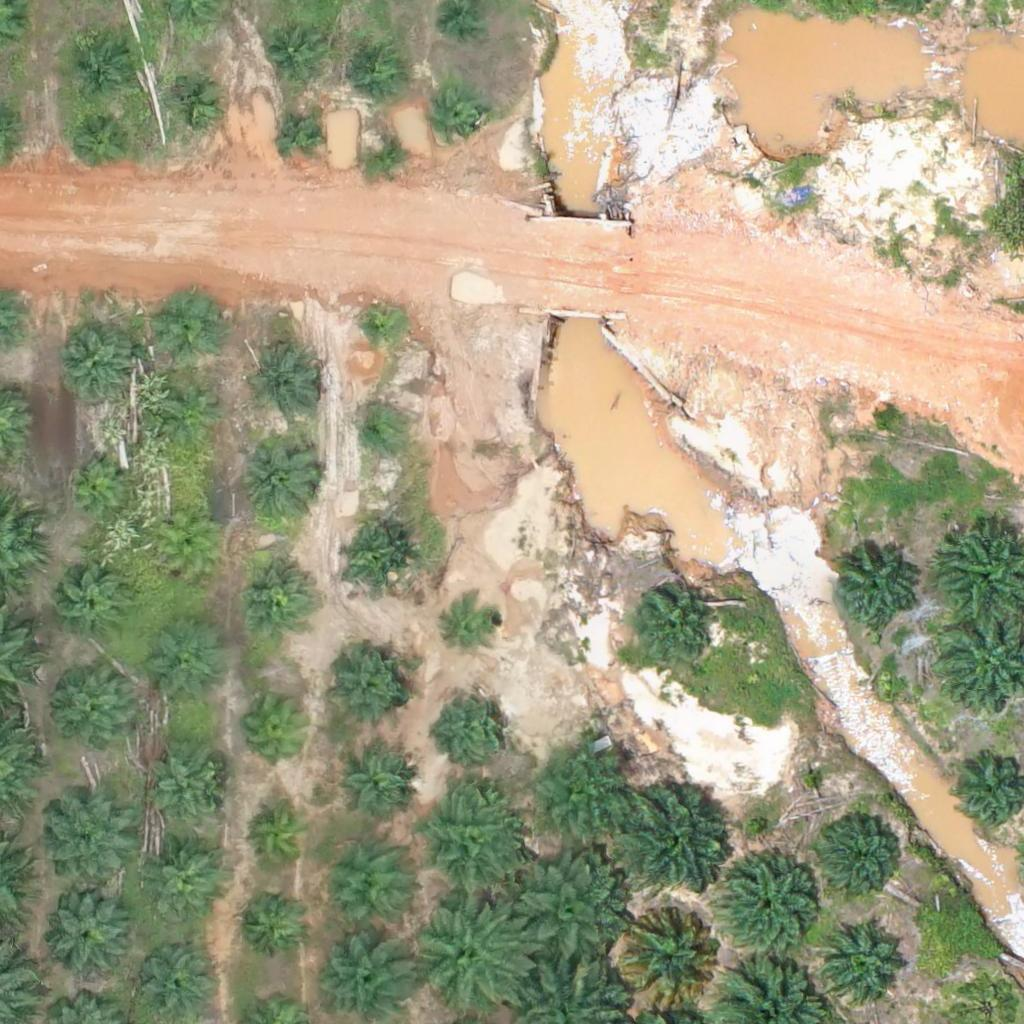Kelapa_Sawit: (408, 887, 533, 1013), (611, 772, 736, 898), (500, 852, 625, 977), (613, 901, 726, 1014), (525, 735, 637, 849), (714, 851, 826, 965), (415, 787, 527, 900), (314, 843, 414, 943), (328, 648, 416, 736), (140, 841, 228, 929), (46, 798, 134, 886), (43, 887, 131, 975), (831, 546, 919, 634), (52, 667, 139, 756), (332, 745, 419, 833), (630, 587, 717, 675), (323, 933, 410, 1021), (139, 749, 226, 837), (55, 320, 142, 408), (823, 916, 910, 1004), (818, 811, 905, 899), (245, 342, 320, 418), (336, 523, 411, 599), (234, 887, 309, 963), (240, 799, 315, 875), (438, 686, 513, 762), (245, 439, 320, 515), (53, 566, 128, 641), (150, 630, 225, 705), (237, 557, 312, 632), (243, 690, 318, 765), (69, 111, 132, 174), (158, 292, 221, 355), (349, 38, 412, 101), (263, 23, 326, 86), (154, 514, 217, 577), (73, 33, 135, 96), (164, 388, 226, 451), (164, 73, 226, 136), (443, 595, 505, 658), (63, 454, 125, 516), (276, 108, 326, 159), (362, 129, 412, 180), (433, 95, 483, 145), (355, 303, 405, 353), (351, 410, 401, 460)
